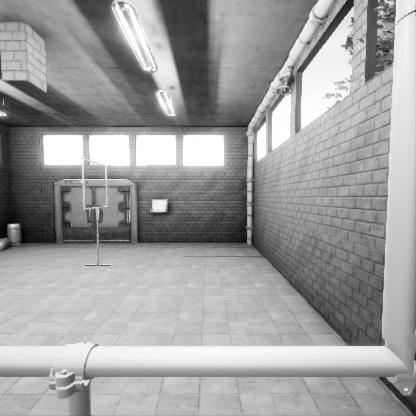gate: (81, 208, 108, 260)
